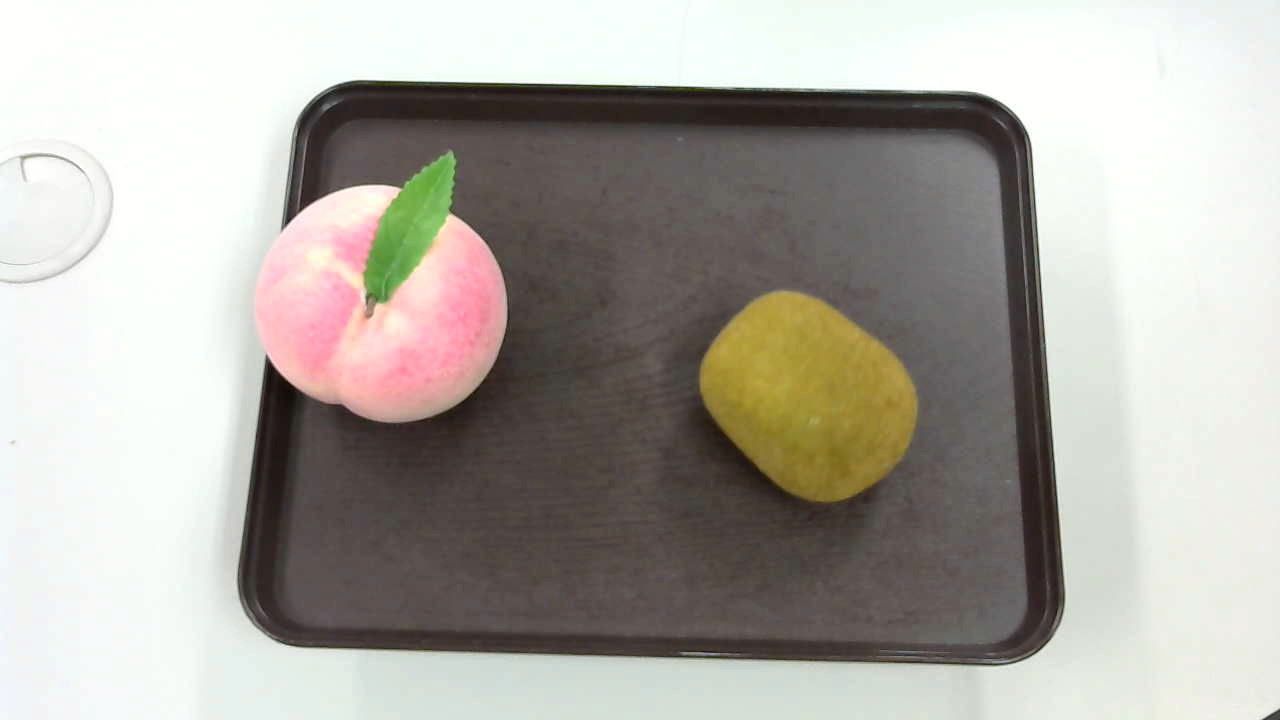kiwi fruit: (695, 283, 923, 511)
peach: (252, 148, 510, 425)
